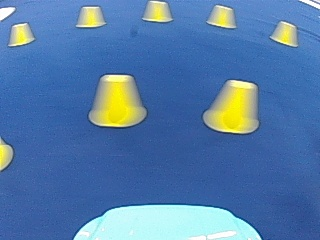cone: (205, 80, 260, 134), (89, 74, 145, 127), (270, 20, 297, 47), (207, 4, 235, 28), (76, 5, 105, 28), (143, 0, 172, 22), (9, 22, 34, 46), (1, 141, 12, 170)
